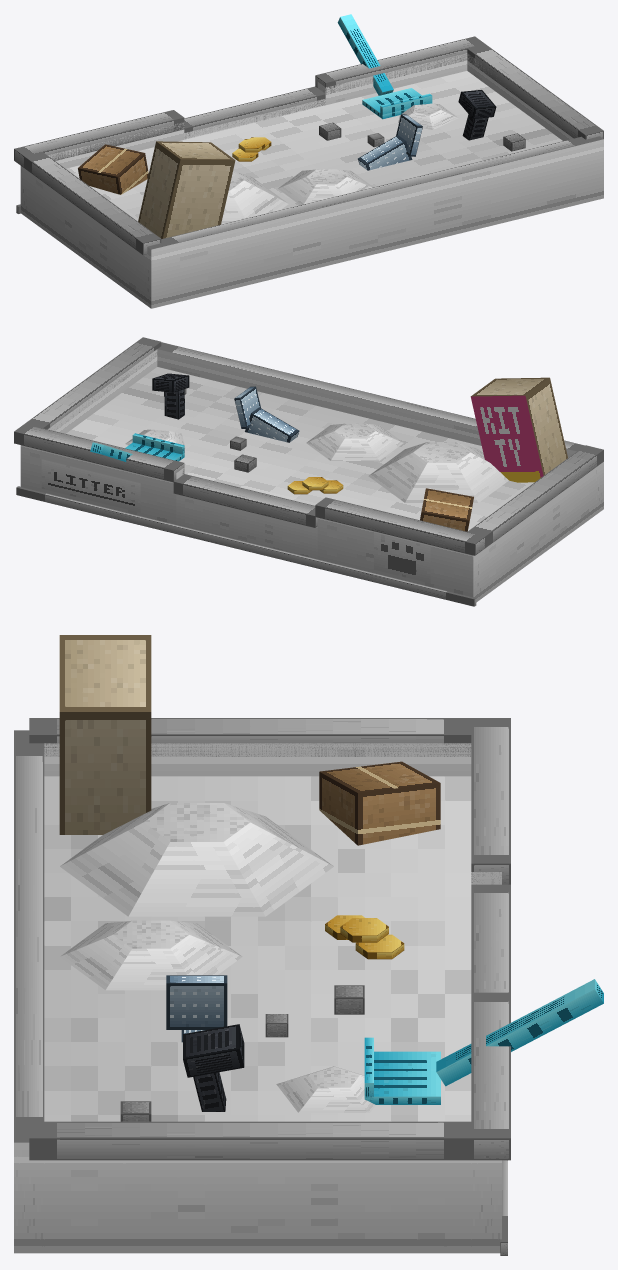
File: litterbox.glb
3 views of the same model, one above another, from view 1: azimuth 30°, elevation 25°; view 2: azimuth 150°, elevation 25°; view 3: azimuth 270°, elevation 25° (orthographic). The views are drawn at different scales.
Visible parts, largest first — view 1: Tray, Sand, Loot, Scoop; view 2: Tray, Sand, Loot, Scoop; view 3: Sand, Tray, Loot, Scoop.
Boxes of the visible parts, x1=… form: Tray: x1=14, y1=36, x2=603, y2=308; Sand: x1=66, y1=71, x2=562, y2=224; Loot: x1=78, y1=90, x2=496, y2=238; Scoop: x1=337, y1=14, x2=432, y2=119; Tray: x1=14, y1=337, x2=603, y2=606; Sand: x1=66, y1=367, x2=534, y2=530; Loot: x1=152, y1=373, x2=567, y2=531; Scoop: x1=90, y1=433, x2=184, y2=461; Sand: x1=44, y1=776, x2=471, y2=1121; Tray: x1=14, y1=718, x2=510, y2=1255; Loot: x1=59, y1=635, x2=440, y2=1111; Scoop: x1=364, y1=979, x2=603, y2=1104.
Size of the model in its own units: 4.07 by 1.1 by 2.42.
Materials: 1 (1 with a texture image).
